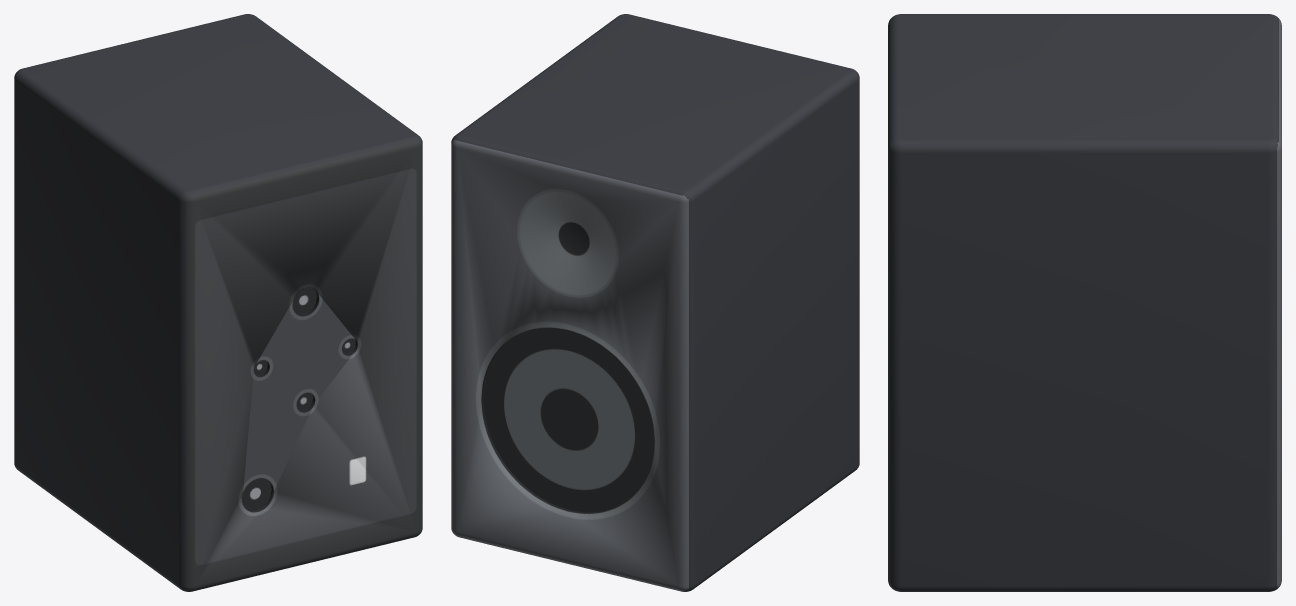
Rendered from neumann-kh-120-ii.glb.
The picture shows the model from 3 angles, left to right: view 1: azimuth 30°, elevation 25°; view 2: azimuth 150°, elevation 25°; view 3: azimuth 270°, elevation 25°; orthographic projection. The views are drawn at different scales.
Visible parts, largest first — view 1: neumann-kh-120-ii-body; view 2: neumann-kh-120-ii-body; view 3: neumann-kh-120-ii-body.
Boxes of the visible parts, x1,y1,x2,y2 form: neumann-kh-120-ii-body: (14, 14, 422, 591); neumann-kh-120-ii-body: (451, 14, 859, 591); neumann-kh-120-ii-body: (888, 14, 1281, 591).
Size of the model in its own units: 0.182 by 0.287 by 0.227.
1 material, 1 textured.
